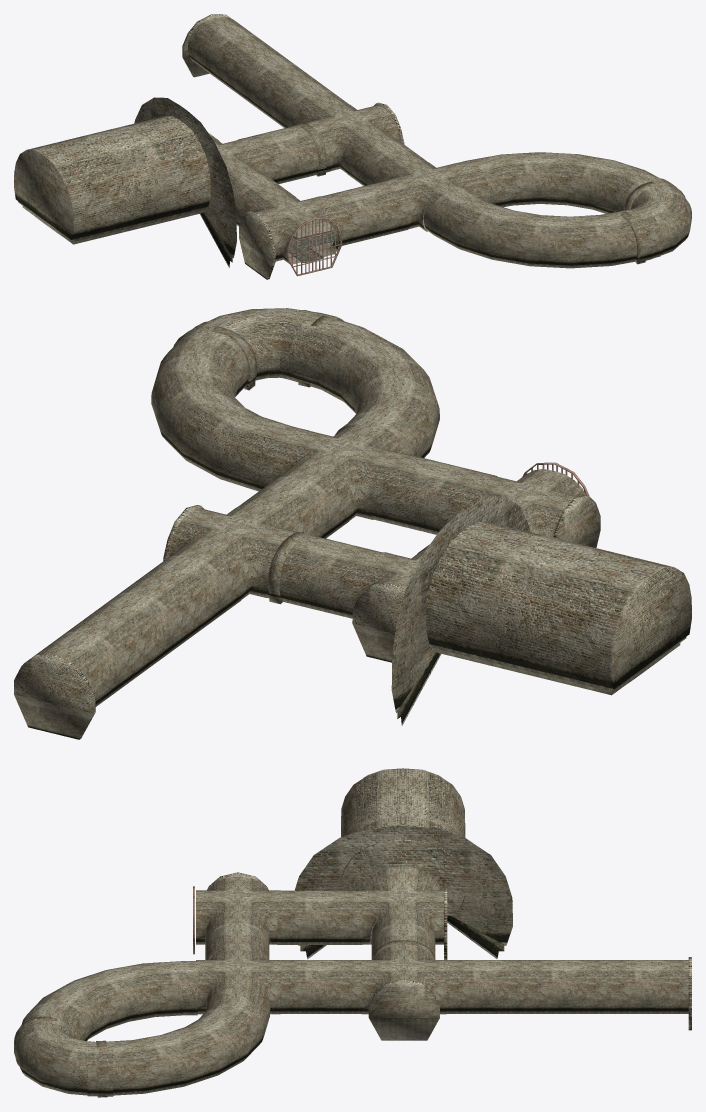
Rendered from Sewer.glb.
3 views of the same model, one above another, from view 1: azimuth 30°, elevation 25°; view 2: azimuth 150°, elevation 25°; view 3: azimuth 270°, elevation 25° (orthographic). The views are drawn at different scales.
Parts seen in each view (by area): view 1: Serwers01-col; view 2: Serwers01-col; view 3: Serwers01-col.
Boxes of the visible parts, box(x1,y1,x2,y2) form: Serwers01-col: box(14, 14, 691, 279); Serwers01-col: box(14, 308, 691, 739); Serwers01-col: box(14, 768, 691, 1097).
Size of the model in its own units: 84.59 by 20.83 by 95.79.
Materials: 4 (4 with a texture image).
